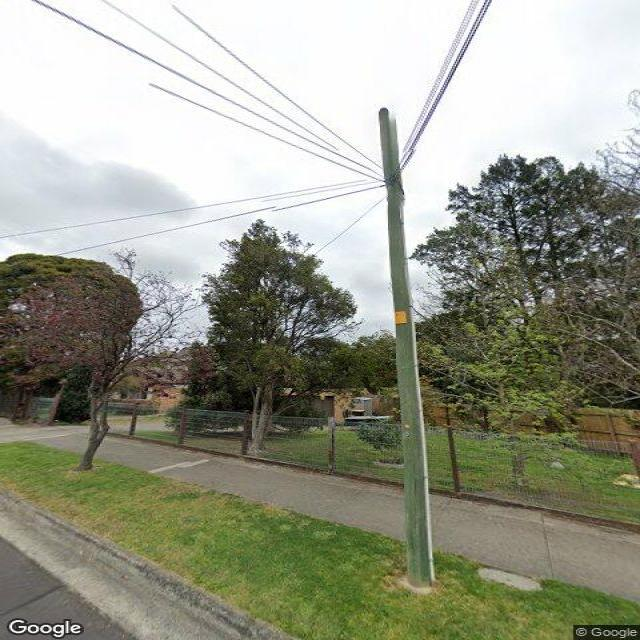timber-pole: (374, 107, 430, 588)
